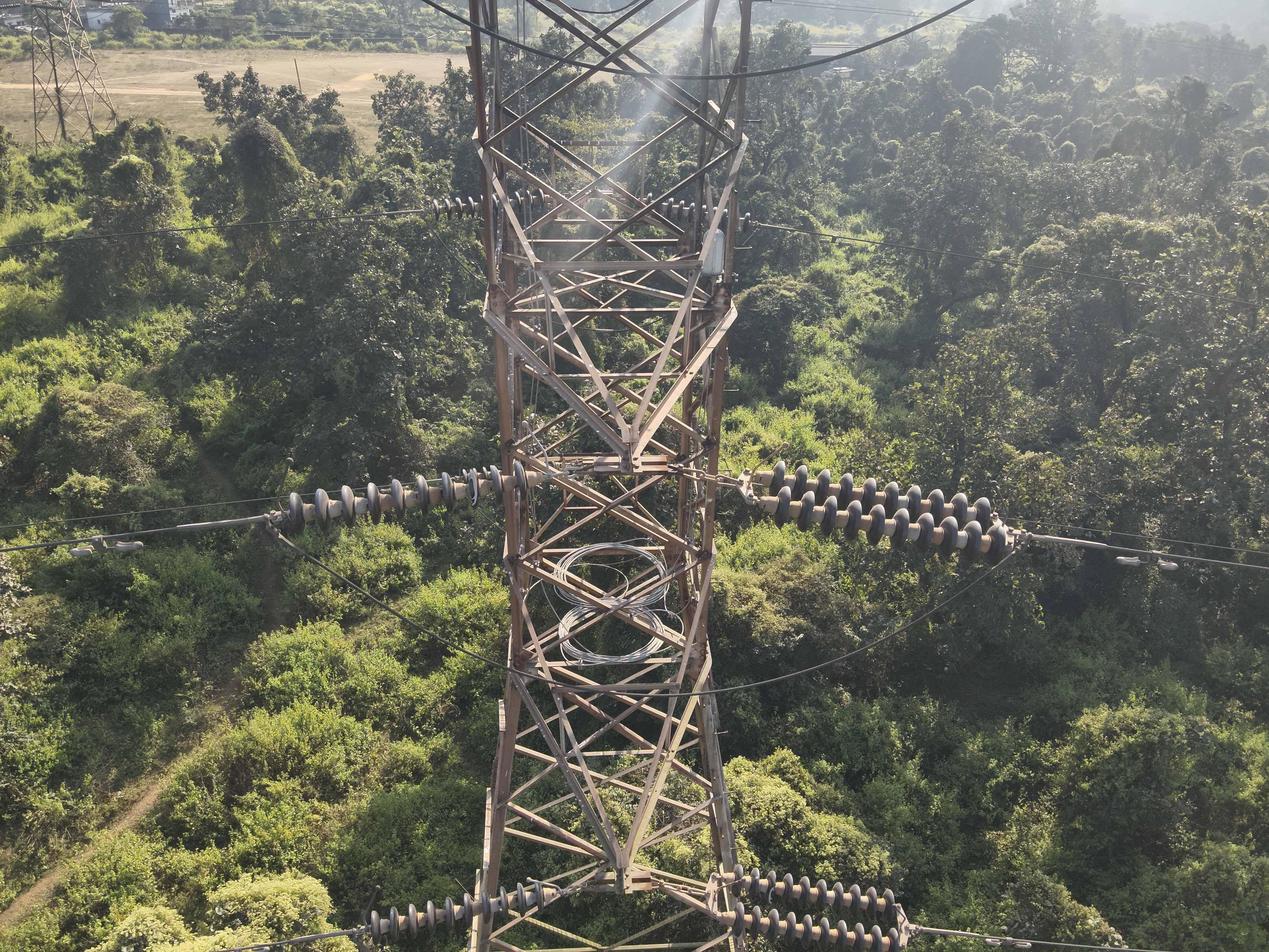broken_insulator: (461, 467, 487, 508), (765, 869, 778, 907)
